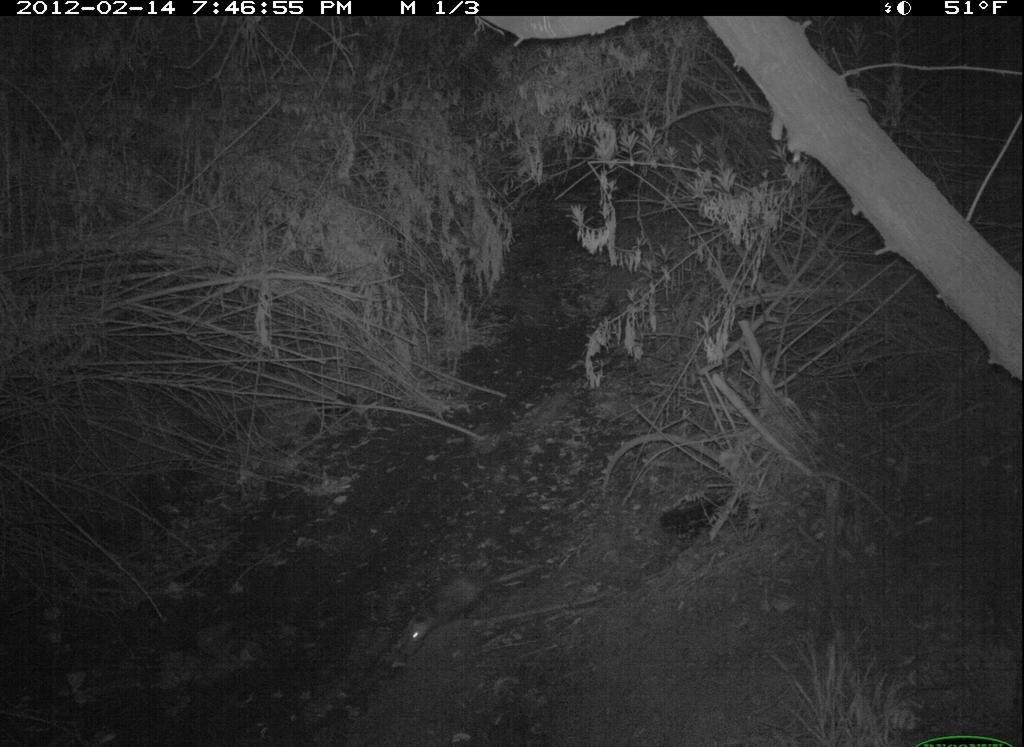opossum: (393, 552, 502, 662)
